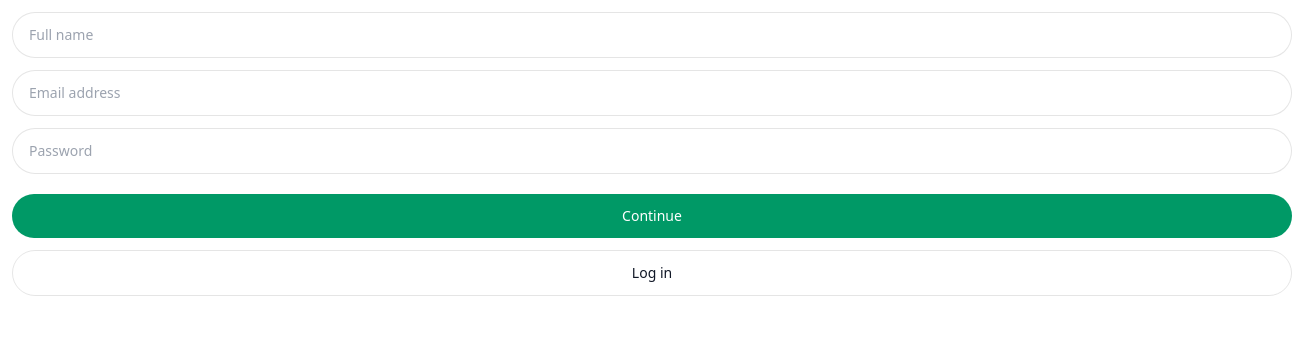
Test: register form › shows a useful message when the account already exists
Type "Aymane" into the field labelled "Full name".
click(652, 35); type("Aymane")  # box [12,12,1292,58]
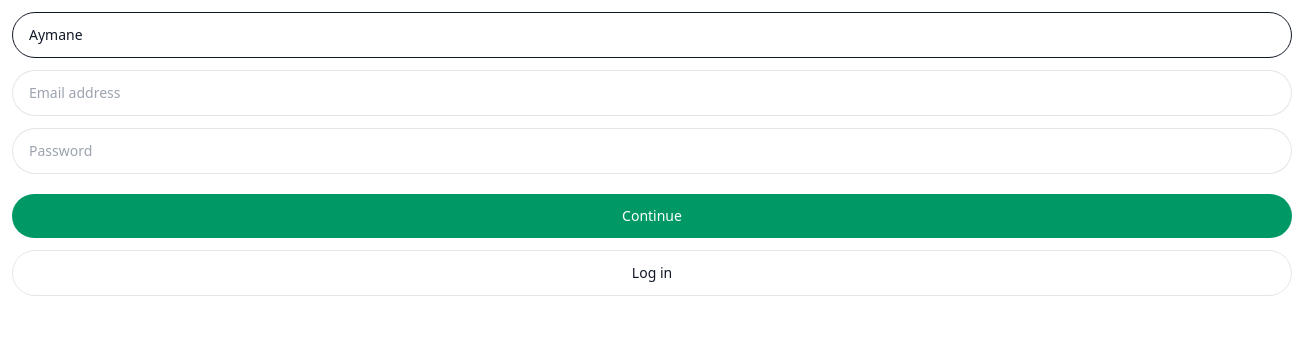
Type "aymane@example.com" into the field labelled "Email address".
click(652, 93); type("aymane@example.com")  # box [12,70,1292,116]
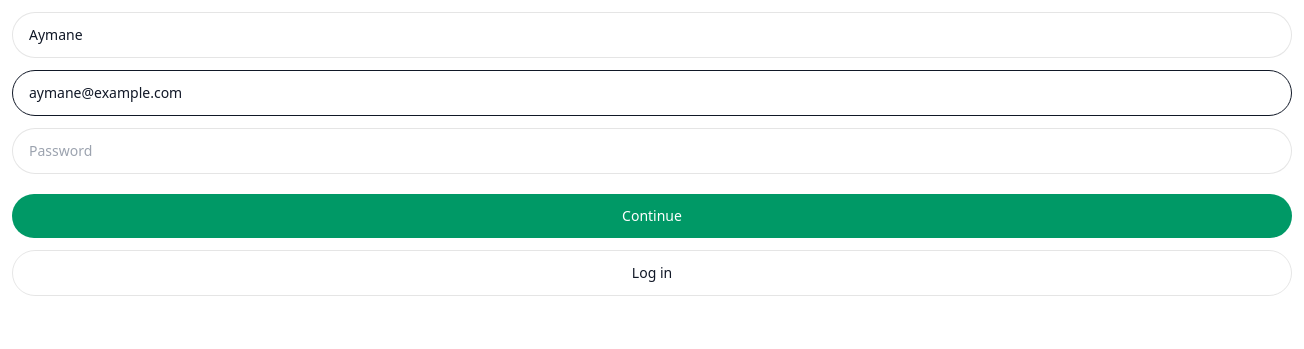
Type "password123" into the password field labelled "Password".
click(652, 151); type("password123")  # box [12,128,1292,174]
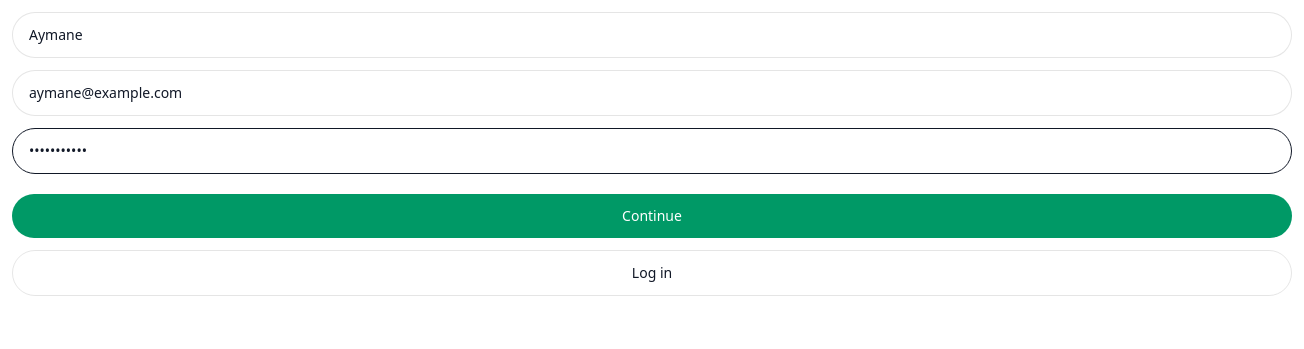
Click the button "Continue".
click(652, 216)  # box [12,194,1292,238]
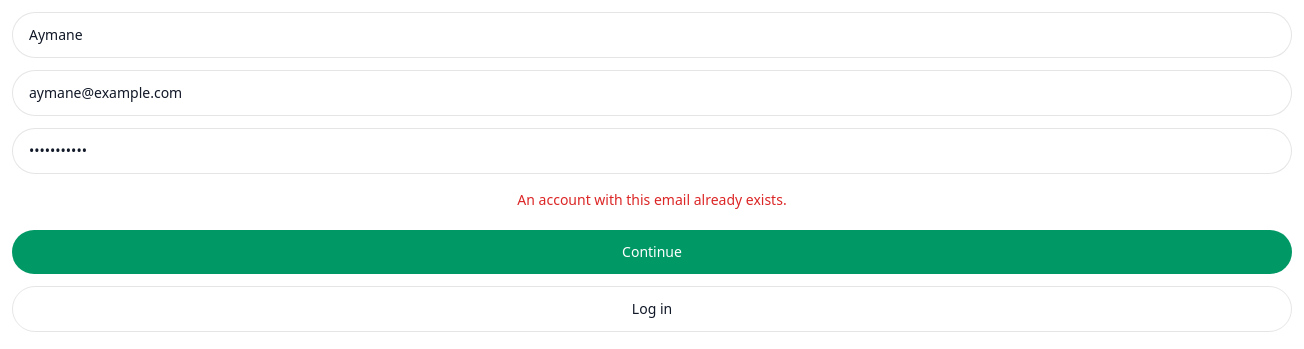
Expected: the message shows "account with this email already exists", [517,190,787,209]
